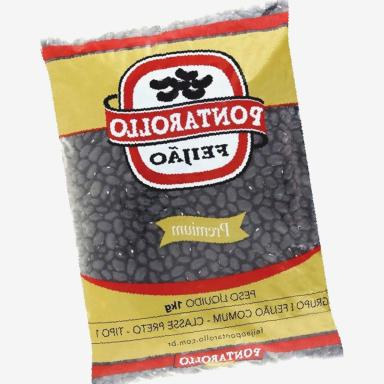beans package: (43, 2, 342, 383)
